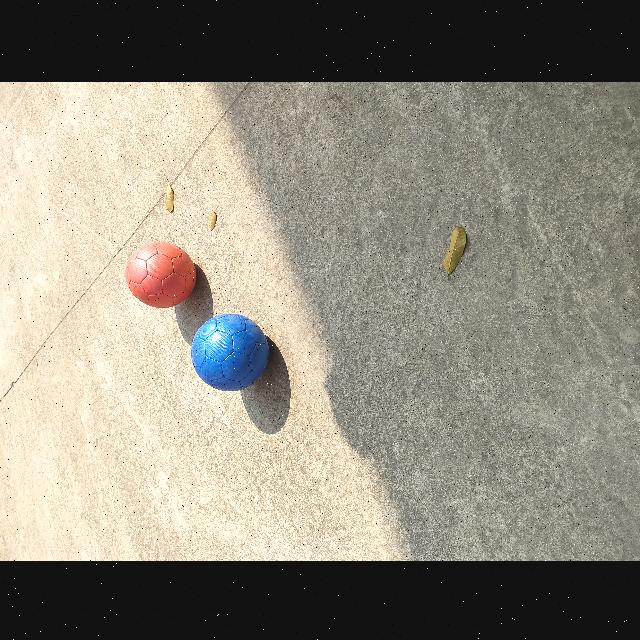B: (192, 311, 274, 391)
R: (124, 240, 203, 308)
